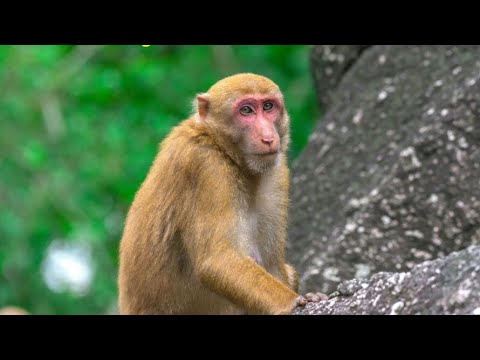monkey: (121, 67, 329, 318)
